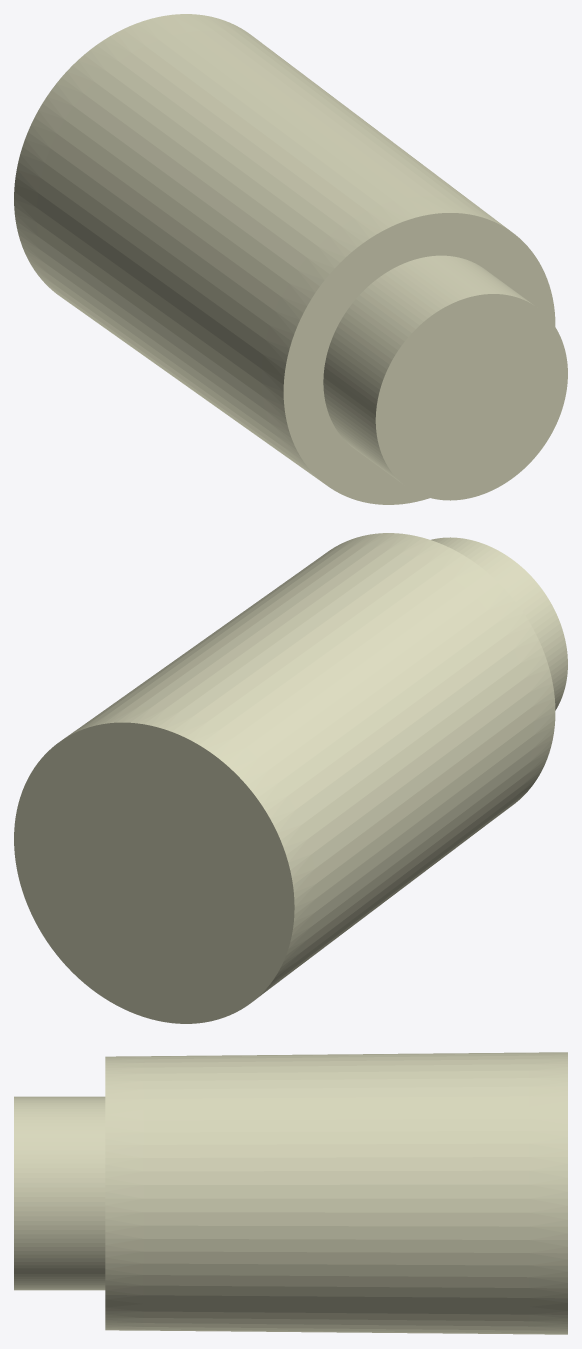
3 renders of one model, top to bottom at view 1: azimuth 30°, elevation 25°; view 2: azimuth 150°, elevation 25°; view 3: azimuth 270°, elevation 25°, orthographic. The views are drawn at different scales.
Visible parts, largest first — view 1: node; view 2: node; view 3: node.
Boxes of the visible parts, bbox=[...] form: node: bbox=[14, 14, 567, 504]; node: bbox=[14, 533, 567, 1023]; node: bbox=[14, 1052, 567, 1334].
Bounding box in the file's own units: 0.0916 × 0.0916 × 0.1796.
